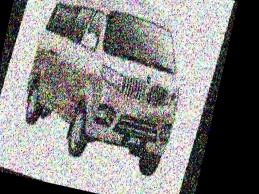van: (3, 0, 214, 186)
